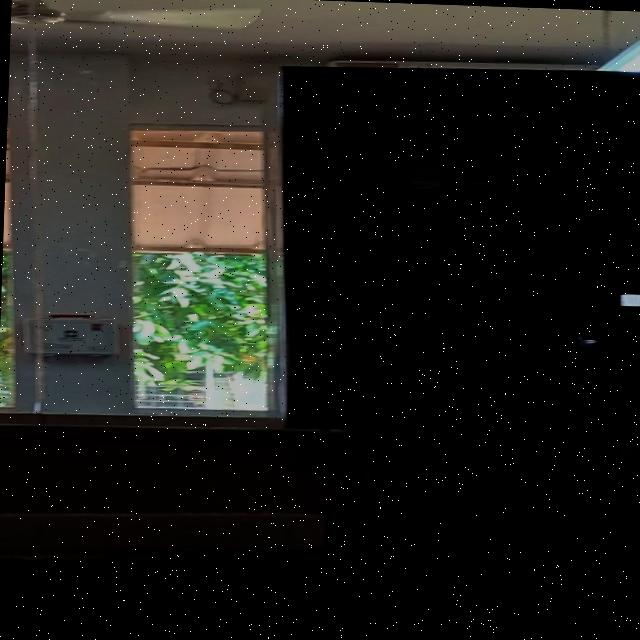Speed40: (589, 406, 637, 508)
